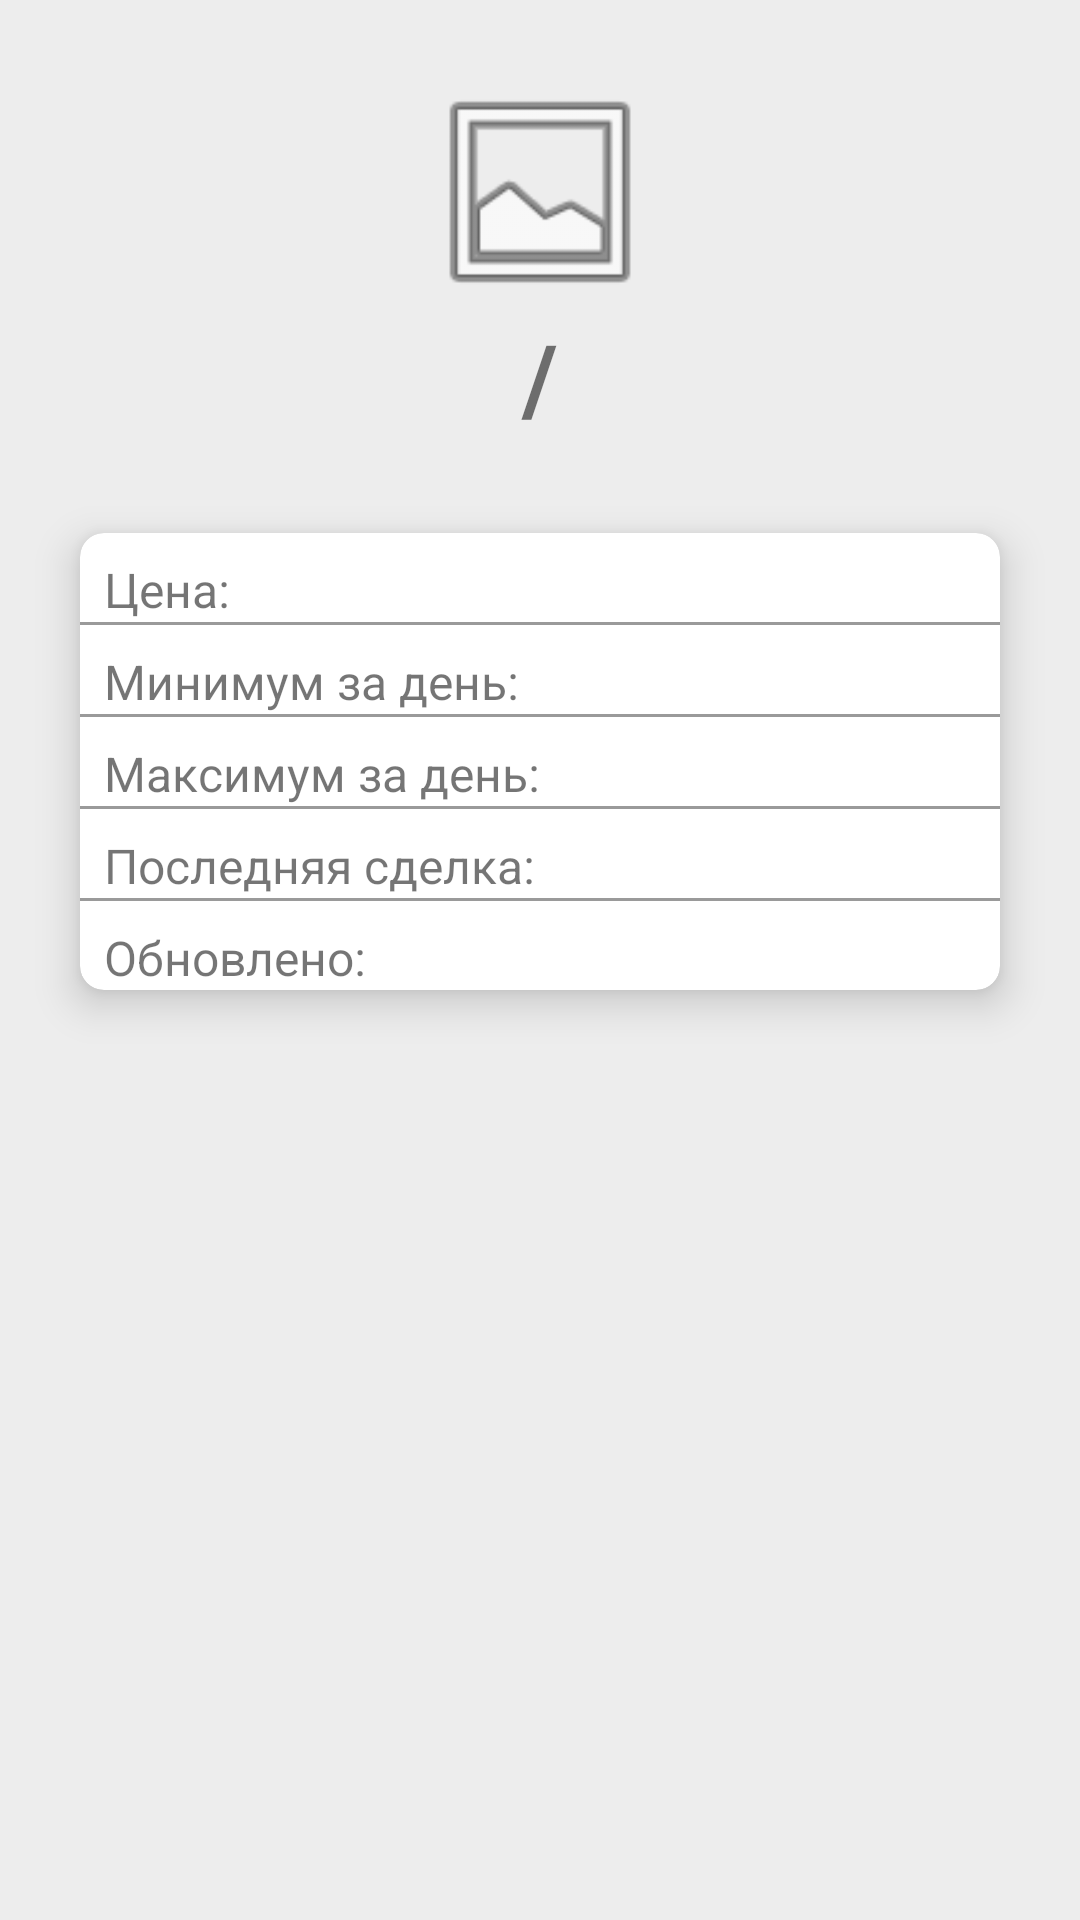

Screen size 1080x1920. Icon name, then its box in pixels as (x1=x1, y1=y1, x2=x2, y2=y2):
gallery: (x1=449, y1=101, x2=631, y2=283)
